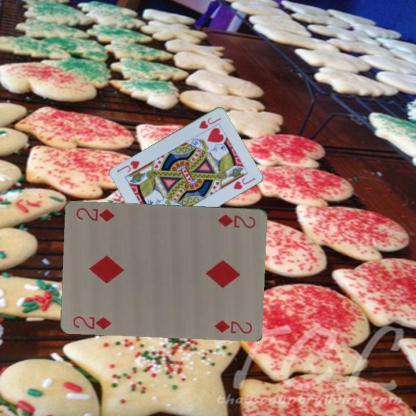2d: (216, 211, 258, 230), (70, 312, 112, 330)
Jh: (197, 114, 223, 130)
